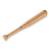baseball bat: (2, 7, 49, 41)
